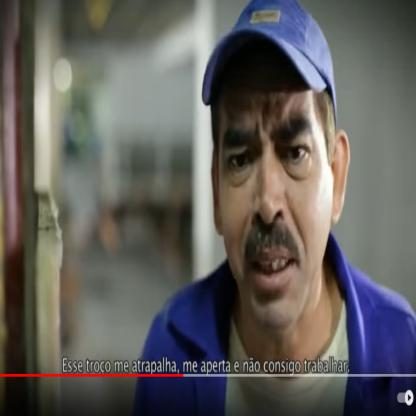sem_capacete: (201, 0, 350, 327)
sem_colete_refletivo: (134, 259, 416, 415)
